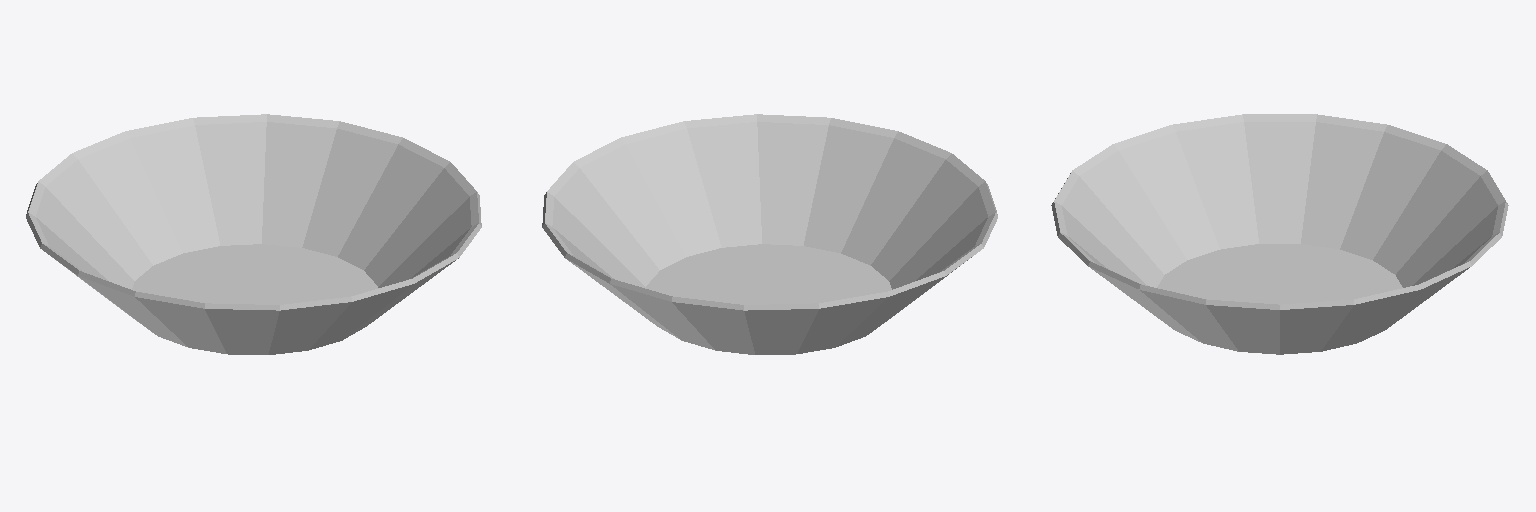
File: Plate02.obj
3 views of the same model, side by side, from view 1: azimuth 30°, elevation 25°; view 2: azimuth 150°, elevation 25°; view 3: azimuth 270°, elevation 25° (orthographic).
Parts seen in each view (by area): view 1: Plate02_LOD0_dish_plate.001; view 2: Plate02_LOD0_dish_plate.001; view 3: Plate02_LOD0_dish_plate.001.
Part boxes in pixels (left/top/right/bottom): Plate02_LOD0_dish_plate.001: left=26, top=114, right=481, bottom=354; Plate02_LOD0_dish_plate.001: left=542, top=114, right=997, bottom=354; Plate02_LOD0_dish_plate.001: left=1051, top=114, right=1508, bottom=354.
Size of the model in its own units: 0.2784 by 0.0627 by 0.2794.